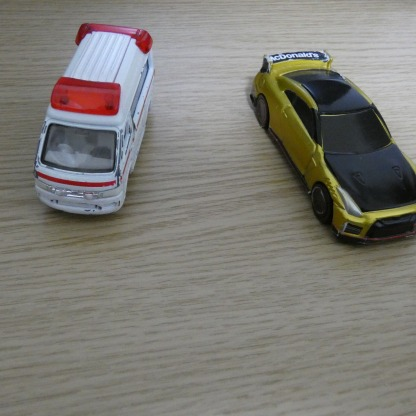car: (248, 39, 416, 254), (28, 20, 156, 221)
